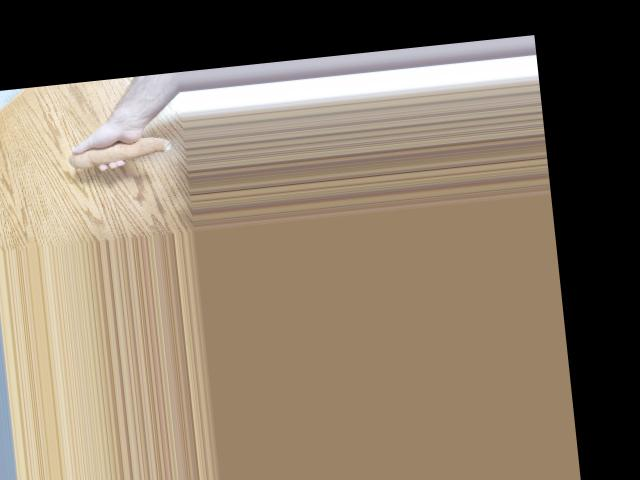sweet_potato: (65, 126, 175, 171)
